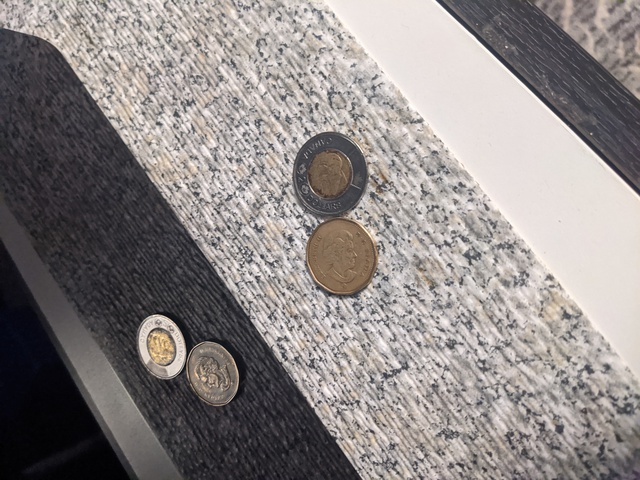loonie: (298, 215, 382, 296), (187, 337, 241, 406)
twonie: (292, 133, 372, 213), (129, 309, 185, 378)
